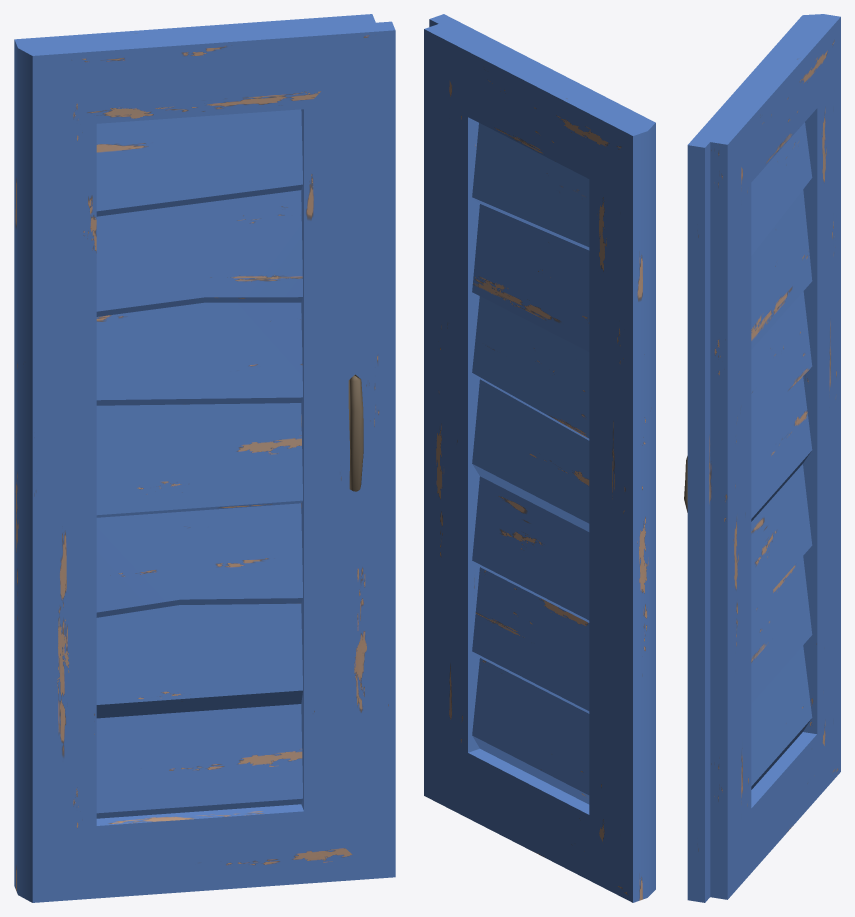
The model's file is ShutterWallLargeWindowRight.fbx.
3 views of the same model, side by side, from view 1: azimuth 30°, elevation 25°; view 2: azimuth 150°, elevation 25°; view 3: azimuth 270°, elevation 25° (orthographic). The views are drawn at different scales.
Parts seen in each view (by area): view 1: ShutterWallLargeWindowRight; view 2: ShutterWallLargeWindowRight; view 3: ShutterWallLargeWindowRight.
Part boxes in pixels (bbox=[...]): ShutterWallLargeWindowRight: bbox=[14, 14, 395, 902]; ShutterWallLargeWindowRight: bbox=[424, 14, 655, 902]; ShutterWallLargeWindowRight: bbox=[684, 14, 840, 902].
Bounding box in the file's own units: 47.9 × 126 × 23.73.
2 materials, 1 textured.
